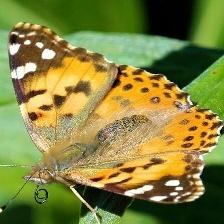butterfly: (8, 22, 223, 204)
